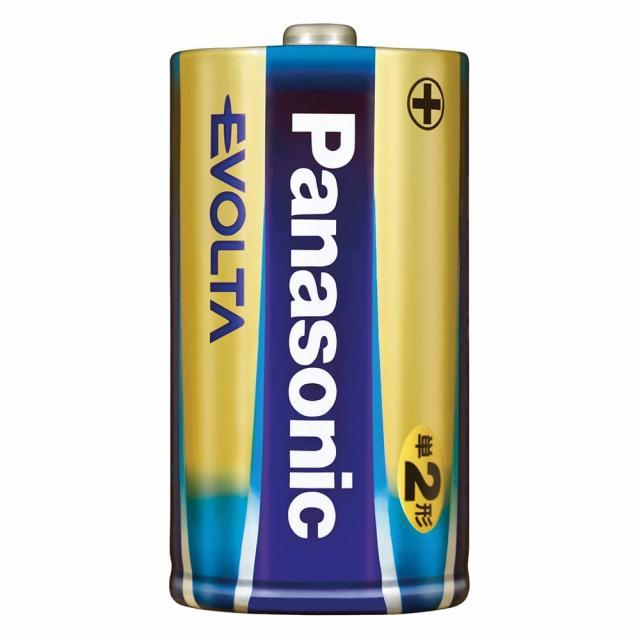hazardous waste: (162, 21, 474, 619)
